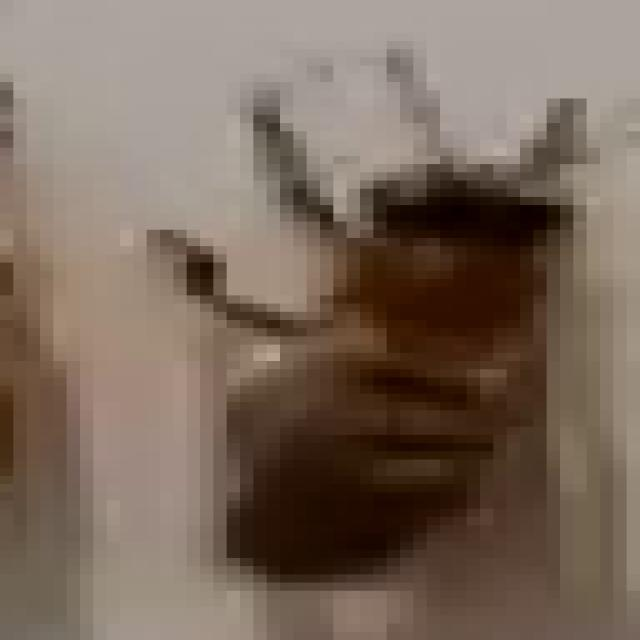honeybee: (176, 67, 554, 556)
